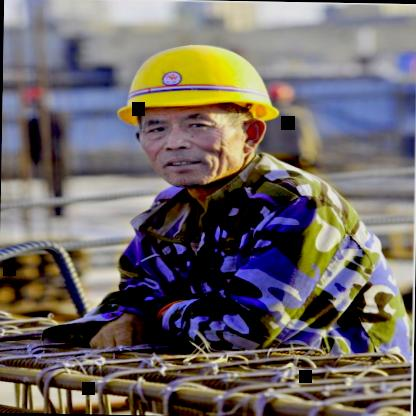helmet: (100, 32, 300, 195)
